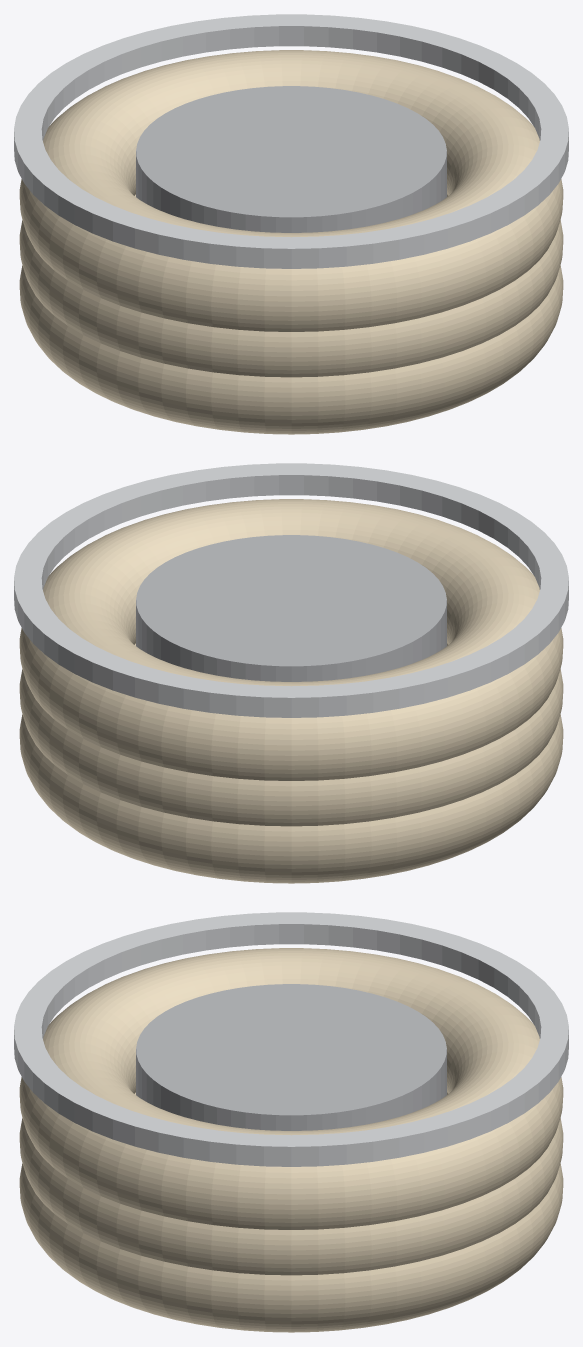
Rendered from stage06_hiad_l.glb.
3 renders of one model, top to bottom at view 1: azimuth 30°, elevation 25°; view 2: azimuth 150°, elevation 25°; view 3: azimuth 270°, elevation 25°, orthographic.
Parts seen in each view (by area): view 1: packed_tori, mount_ring, centre_body; view 2: packed_tori, mount_ring, centre_body; view 3: packed_tori, mount_ring, centre_body.
Boxes of the visible parts, left/top/right/bottom form: packed_tori: left=19, top=50, right=563, bottom=434; mount_ring: left=14, top=14, right=568, bottom=268; centre_body: left=136, top=86, right=446, bottom=232; packed_tori: left=19, top=499, right=563, bottom=883; mount_ring: left=14, top=463, right=568, bottom=717; centre_body: left=136, top=535, right=446, bottom=681; packed_tori: left=19, top=948, right=563, bottom=1332; mount_ring: left=14, top=912, right=568, bottom=1166; centre_body: left=136, top=984, right=446, bottom=1130.
Bounding box in the file's own units: 3.75 × 1.88 × 3.75.
